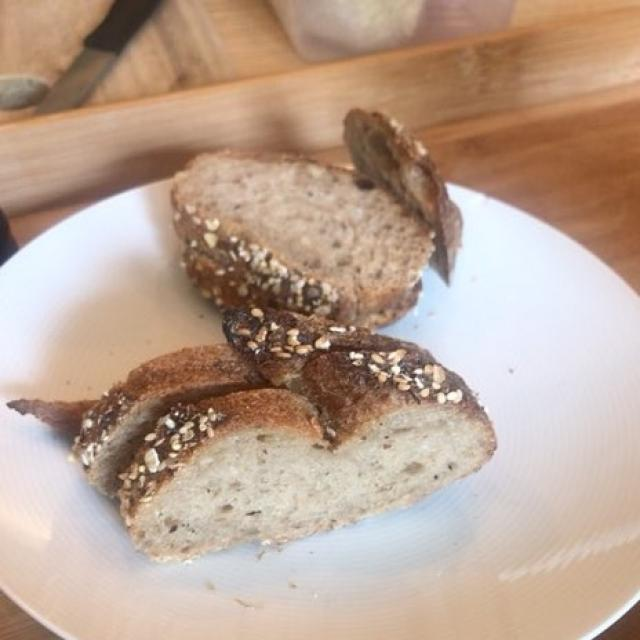bread: (42, 144, 485, 554)
